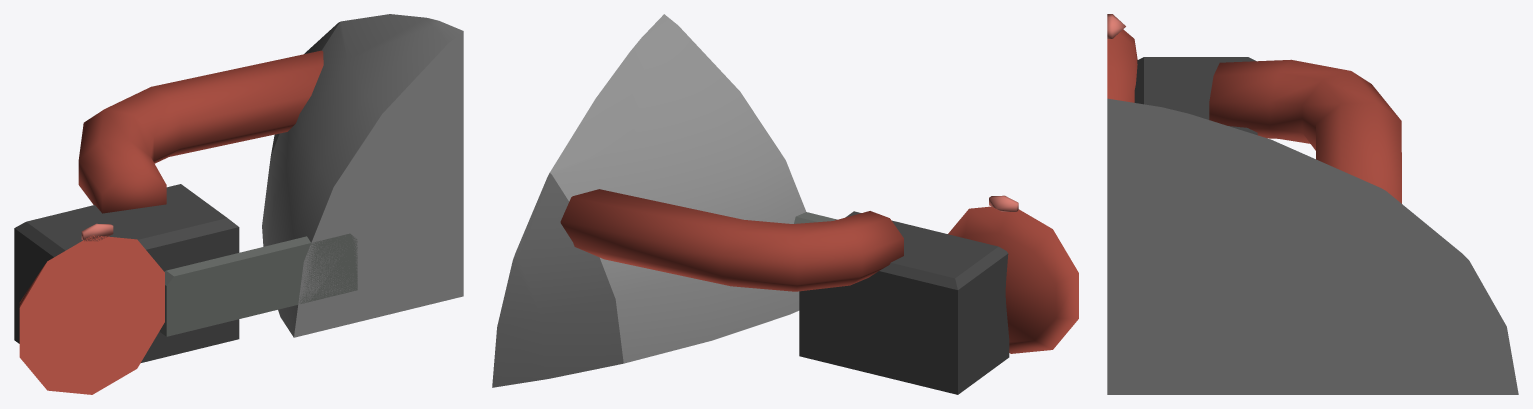
The model's file is newshi-39.glb.
3 views of the same model, side by side, from view 1: azimuth 30°, elevation 25°; view 2: azimuth 150°, elevation 25°; view 3: azimuth 270°, elevation 25° (orthographic). The views are drawn at different scales.
Parts seen in each view (by area): view 1: newshi-39; view 2: newshi-39; view 3: newshi-39.
Boxes of the visible parts, x1,y1,x2,y2 form: newshi-39: (14, 14, 463, 394); newshi-39: (492, 14, 1078, 394); newshi-39: (1107, 14, 1518, 394).
Bounding box in the file's own units: 1.74 × 1.03 × 1.25.
